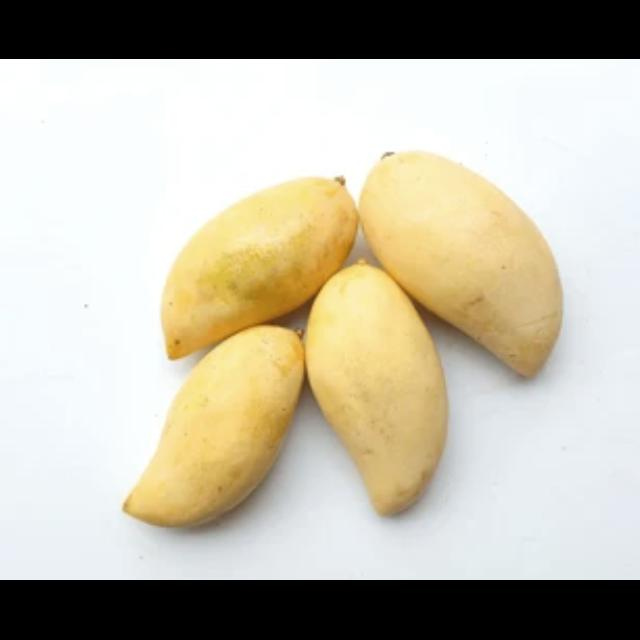mango: (363, 150, 564, 383), (161, 170, 359, 362), (119, 325, 305, 529), (303, 264, 449, 518)
